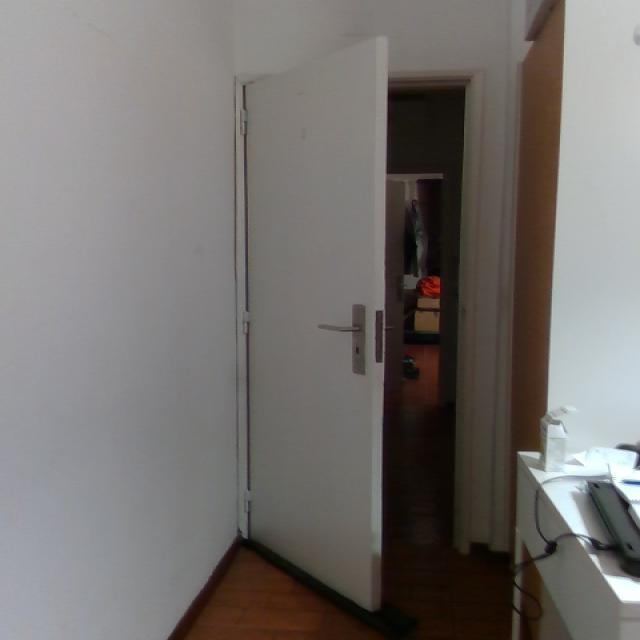door: (241, 35, 387, 613)
